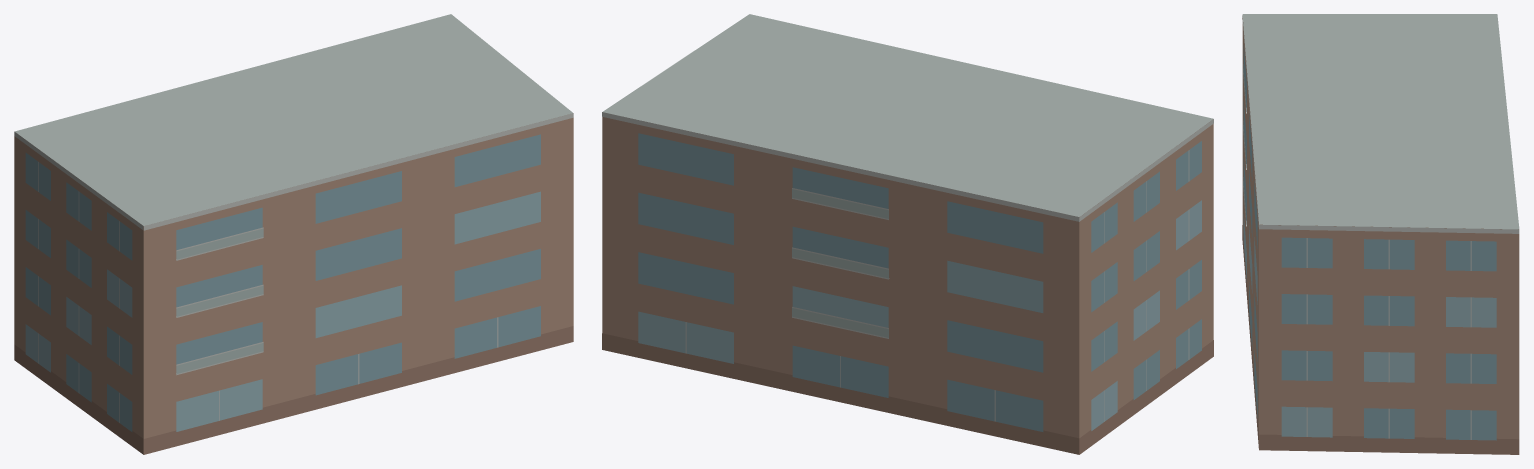
Rendered from residential-ccd12bfe-7dcc-482d-83a5-d019bd1cbbe4.glb.
3 views of the same model, side by side, from view 1: azimuth 30°, elevation 25°; view 2: azimuth 150°, elevation 25°; view 3: azimuth 270°, elevation 25° (orthographic). The views are drawn at different scales.
Visible parts, largest first — view 1: residential-ccd12bfe-7dcc-482d-83a5-d019bd1cbbe4.tmp; view 2: residential-ccd12bfe-7dcc-482d-83a5-d019bd1cbbe4.tmp; view 3: residential-ccd12bfe-7dcc-482d-83a5-d019bd1cbbe4.tmp.
Boxes of the visible parts, x1,y1,x2,y2 form: residential-ccd12bfe-7dcc-482d-83a5-d019bd1cbbe4.tmp: (14, 14, 573, 454); residential-ccd12bfe-7dcc-482d-83a5-d019bd1cbbe4.tmp: (602, 14, 1213, 454); residential-ccd12bfe-7dcc-482d-83a5-d019bd1cbbe4.tmp: (1242, 14, 1519, 454).
Size of the model in its own units: 25.01 by 12.2 by 13.59.
